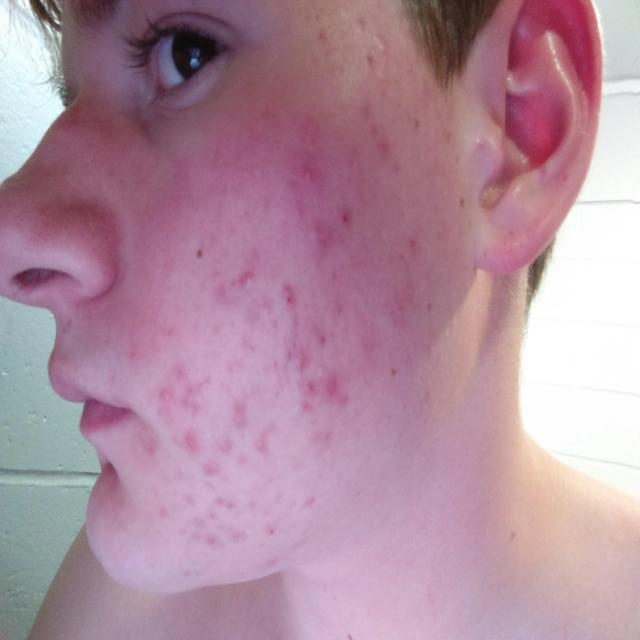Acne: (153, 499, 218, 571), (226, 394, 280, 460), (363, 31, 410, 94), (302, 379, 366, 425), (272, 324, 320, 381), (360, 117, 402, 169), (178, 439, 223, 487), (156, 370, 206, 411), (339, 324, 391, 362), (298, 214, 345, 256), (178, 502, 251, 521), (340, 0, 373, 42), (290, 157, 328, 193), (230, 254, 264, 292), (270, 282, 304, 319), (133, 435, 178, 461), (260, 510, 281, 546)
